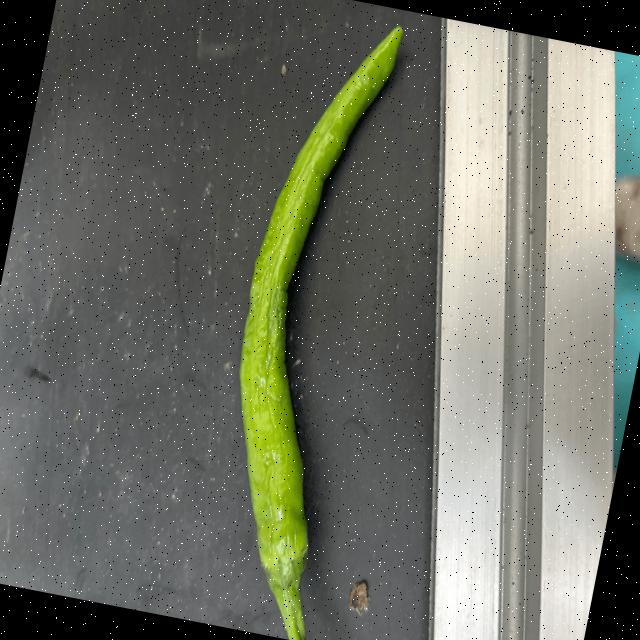chili: (237, 20, 403, 605)
